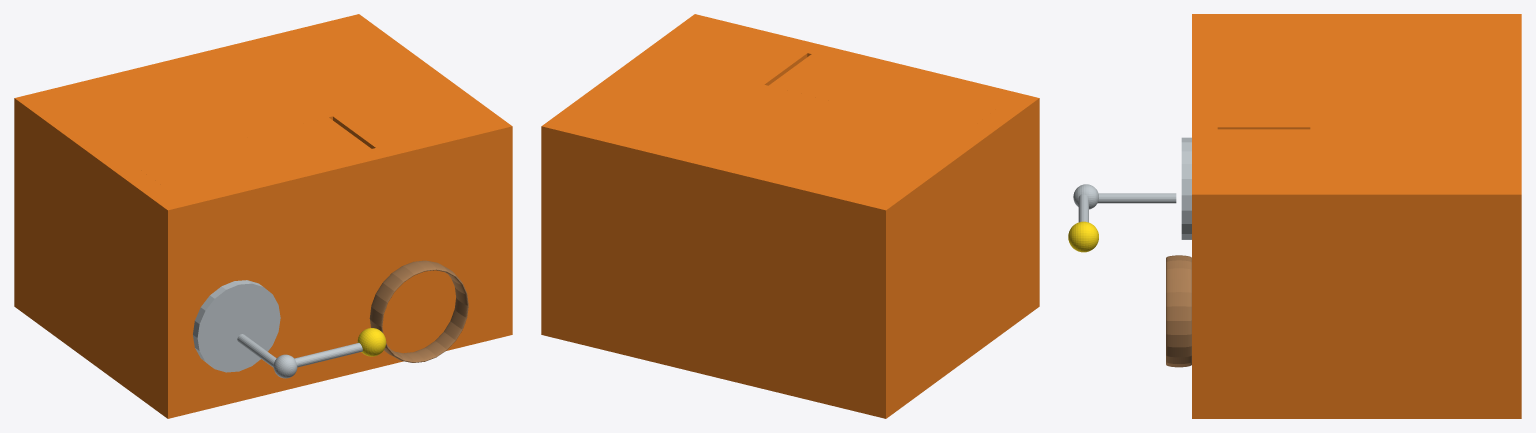
File: tinker.obj
3 renders of one model, left to right at view 1: azimuth 30°, elevation 25°; view 2: azimuth 150°, elevation 25°; view 3: azimuth 270°, elevation 25°, orthographic. The views are drawn at different scales.
Parts seen in each view (by area): view 1: group_0_16089887, group_0_12568524, group_0_11107152, group_0_16768282; view 2: group_0_16089887; view 3: group_0_16089887, group_0_11107152, group_0_12568524, group_0_16768282.
Boxes of the visible parts, <box> form: group_0_16089887: <box>14,14,512,418</box>; group_0_12568524: <box>193,280,362,378</box>; group_0_11107152: <box>369,260,468,362</box>; group_0_16768282: <box>357,328,386,356</box>; group_0_16089887: <box>541,14,1039,418</box>; group_0_16089887: <box>1192,14,1521,418</box>; group_0_11107152: <box>1166,255,1191,367</box>; group_0_12568524: <box>1073,137,1191,239</box>; group_0_16768282: <box>1068,221,1098,252</box>.
Size of the model in its own units: 83 by 53 by 88.
